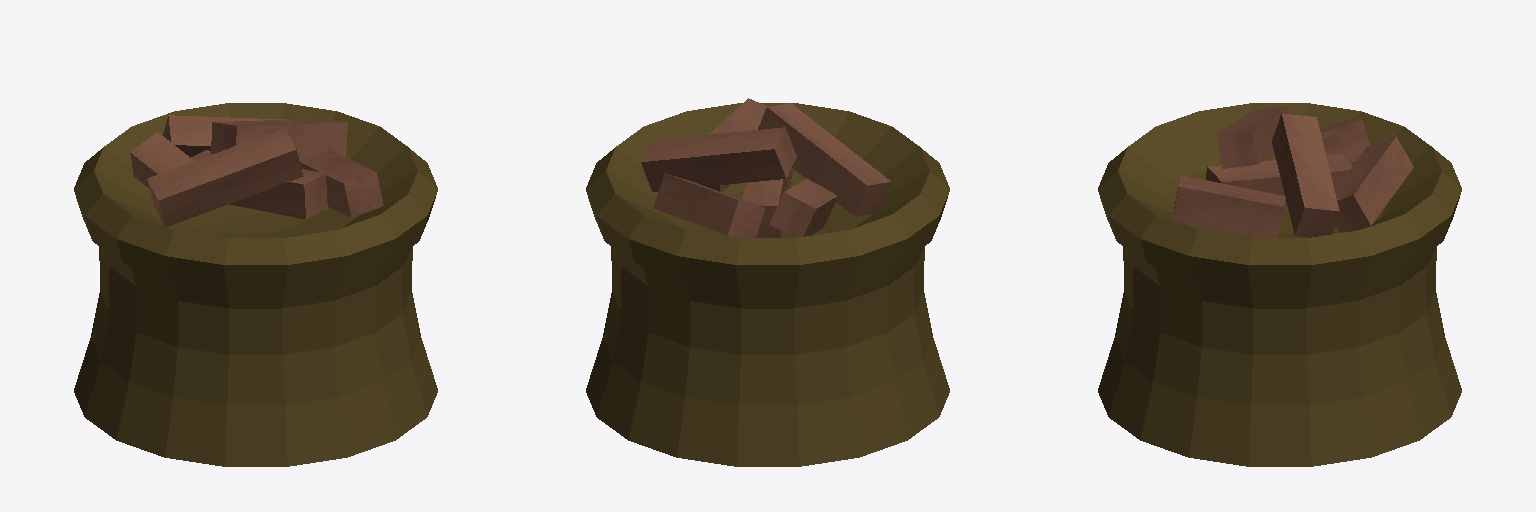
The picture shows the model from 3 angles: view 1: azimuth 30°, elevation 25°; view 2: azimuth 150°, elevation 25°; view 3: azimuth 270°, elevation 25°; orthographic projection.
Parts seen in each view (by area): view 1: Firepit, Firewood; view 2: Firepit, Firewood; view 3: Firepit, Firewood.
Boxes of the visible parts, x1,y1,x2,y2 form: Firepit: [74, 103, 437, 466]; Firewood: [130, 115, 383, 226]; Firepit: [586, 103, 949, 466]; Firewood: [641, 98, 890, 237]; Firepit: [1098, 103, 1461, 466]; Firewood: [1172, 106, 1413, 237].
Bounding box in the file's own units: 1.48 × 1.22 × 1.5.
Materials: 2 (1 with a texture image).